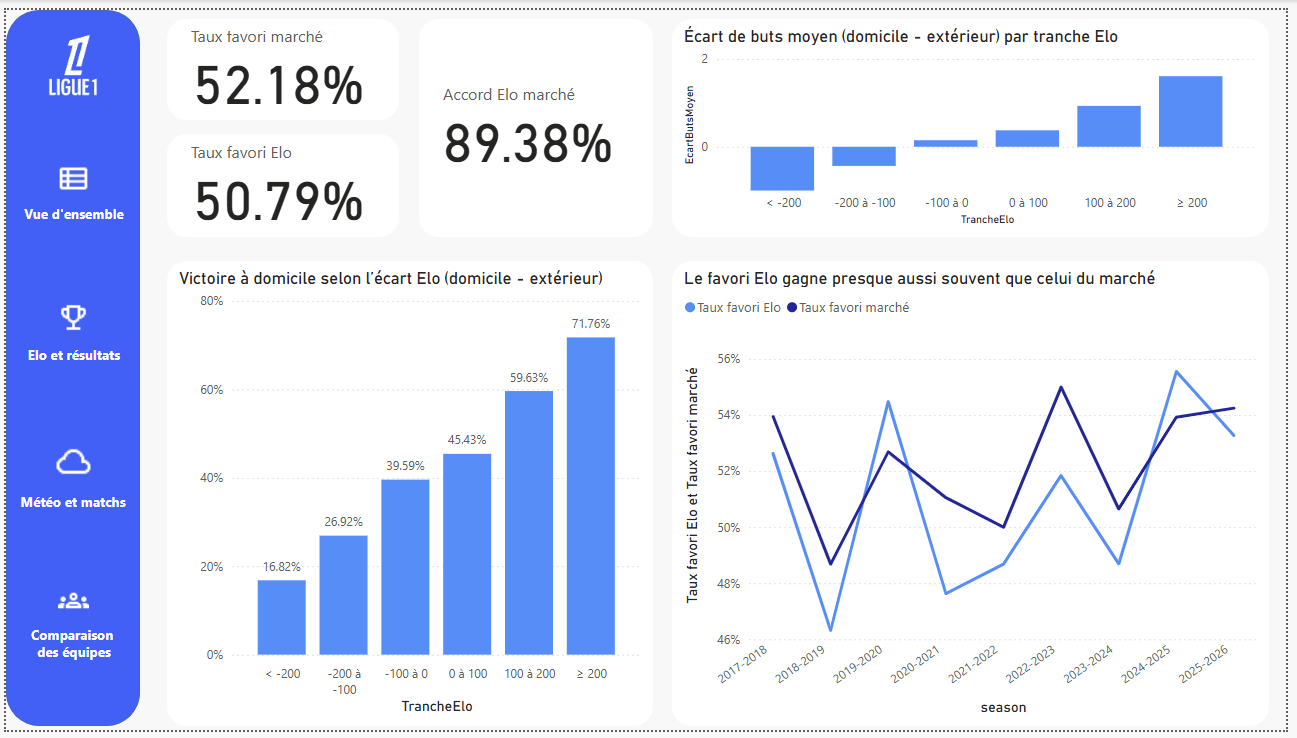

The dashboard page shown, as its layout file describes it:
{"tool":"powerbi","page":{"name":"Elo et résultats ","canvas":[1280,720],"ordinal":1},"visuals":[{"type":"cardVisual","fields":{"Data":["public v_match_analysis.MoyenneEloDiff"]},"box":[160.5,9.1,265,218],"z":0},{"type":"columnChart","fields":{"Category":["public v_match_analysis.TrancheElo"],"Y":["public v_match_analysis.TauxVictoireDomicile"]},"box":[160.5,251.4,614.8,464.9],"z":1000},{"type":"hundredPercentStackedBarChart","fields":{"Category":["public v_match_analysis.TrancheElo"],"Series":["public v_match_analysis.result"],"Y":["public v_match_analysis.NbMatchs"]},"box":[795,251.4,467.9,464.9],"z":2000},{"type":"clusteredColumnChart","fields":{"Category":["public v_match_analysis.TrancheElo"],"Y":["public v_match_analysis.EcartButsMoyen"]},"box":[446.7,9.1,816.2,218],"z":3000},{"type":"shape","box":[0,0,134.3,715.7],"z":4000},{"type":"image","box":[20,1.4,94.3,107.1],"z":5000}]}

Visuals, with their boxes on the page's 1280x720 design canvas (x1, y1, x2, y2). These are canvas units, not pixel positions in the 1297x738 screenshot, which may show the page scaled, cropped or inside an application window:
cardVisual - public v_match_analysis.MoyenneEloDiff: 160,9,426,227
columnChart - public v_match_analysis.TrancheElo x public v_match_analysis.TauxVictoireDomicile: 160,251,775,716
hundredPercentStackedBarChart - public v_match_analysis.TrancheElo x public v_match_analysis.result: 795,251,1263,716
clusteredColumnChart - public v_match_analysis.TrancheElo x public v_match_analysis.EcartButsMoyen: 447,9,1263,227
shape: 0,0,134,716
image: 20,1,114,108
